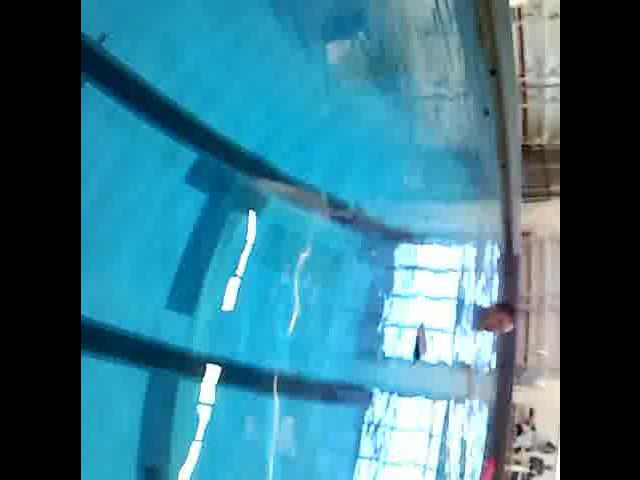CamMount: (402, 320, 434, 368)
